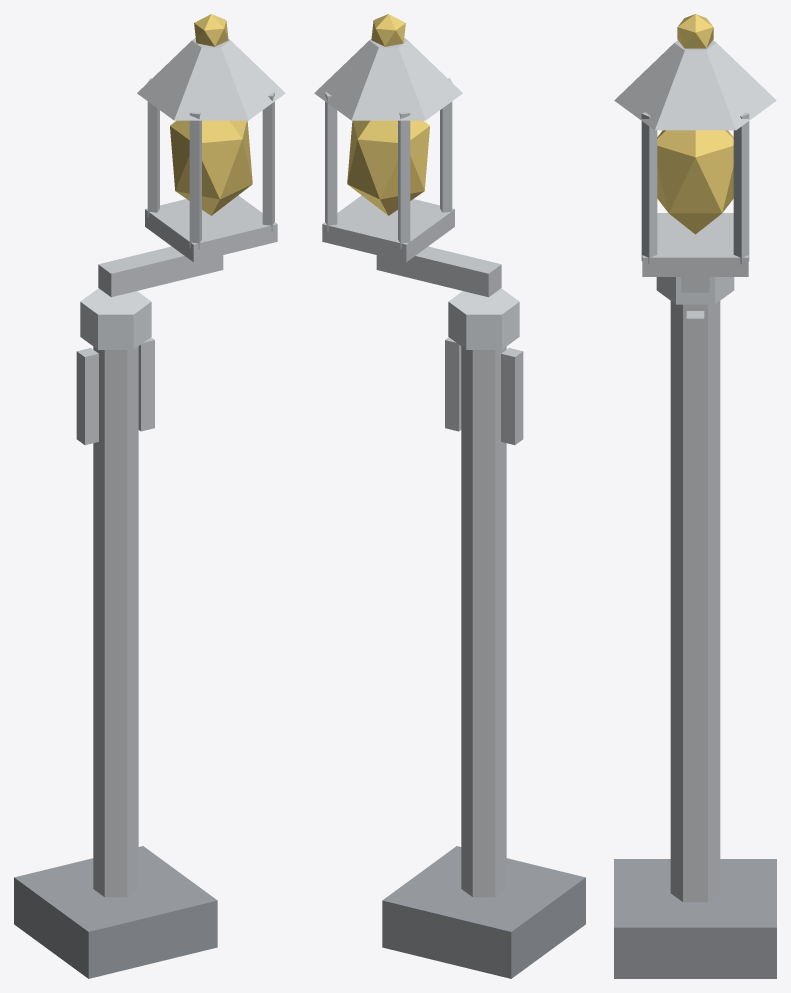
The model's file is street_lamp.glb.
3 renders of one model, left to right at view 1: azimuth 30°, elevation 25°; view 2: azimuth 150°, elevation 25°; view 3: azimuth 270°, elevation 25°, orthographic. The views are drawn at different scales.
Visible parts, largest first — view 1: post.001, foot, cap, glass, lamp_base, collar, arm, brace_-1, frame_0, frame_1, brace_1, frame_2 (+1 smaller); view 2: post.001, foot, cap, glass, lamp_base, collar, arm, brace_-1, frame_2, frame_3, brace_1, frame_0 (+1 smaller); view 3: post.001, foot, cap, glass, lamp_base, frame_1, frame_3, brace_1, collar, finial, arm.
Boxes of the visible parts, bbox=[...] form: post.001: bbox=[93, 346, 138, 897]; foot: bbox=[14, 846, 217, 978]; cap: bbox=[137, 38, 285, 120]; glass: bbox=[170, 120, 252, 215]; lamp_base: bbox=[145, 195, 277, 262]; collar: bbox=[80, 288, 151, 349]; arm: bbox=[98, 246, 223, 297]; brace_-1: bbox=[76, 348, 98, 444]; frame_0: bbox=[189, 112, 201, 249]; frame_1: bbox=[262, 92, 274, 231]; brace_1: bbox=[138, 337, 154, 431]; frame_2: bbox=[147, 78, 159, 217]; post.001: bbox=[461, 346, 506, 897]; foot: bbox=[382, 846, 585, 978]; cap: bbox=[314, 38, 462, 120]; glass: bbox=[347, 120, 429, 215]; lamp_base: bbox=[322, 195, 454, 262]; collar: bbox=[448, 288, 519, 349]; arm: bbox=[376, 246, 501, 297]; brace_-1: bbox=[501, 348, 523, 444]; frame_2: bbox=[398, 112, 410, 249]; frame_3: bbox=[325, 92, 337, 231]; brace_1: bbox=[445, 337, 461, 431]; frame_0: bbox=[440, 78, 452, 217]; post.001: bbox=[670, 301, 720, 902]; foot: bbox=[614, 859, 776, 978]; cap: bbox=[614, 40, 776, 130]; glass: bbox=[657, 130, 733, 234]; lamp_base: bbox=[642, 213, 748, 276]; frame_1: bbox=[641, 112, 657, 264]; frame_3: bbox=[733, 112, 749, 264]; brace_1: bbox=[686, 311, 704, 414]; collar: bbox=[656, 277, 734, 304]; finial: bbox=[677, 14, 713, 48]; arm: bbox=[681, 277, 709, 292].
Size of the model in its own units: 0.7692 by 3.06 by 0.46.
